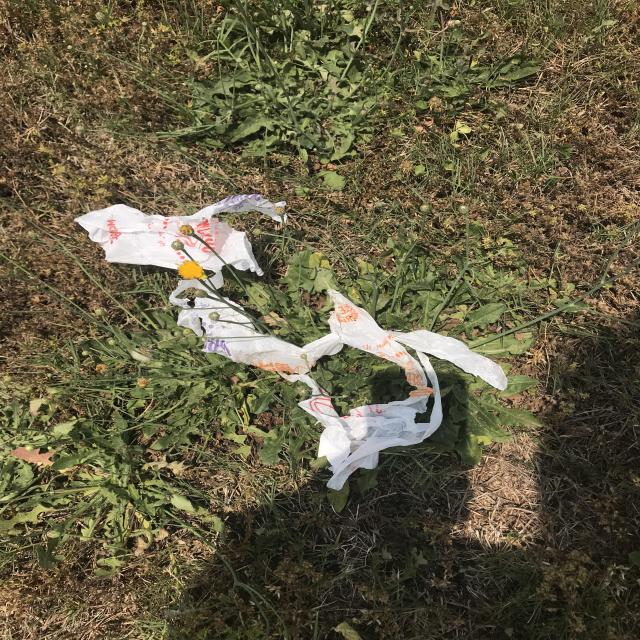litter: (74, 194, 506, 490)
